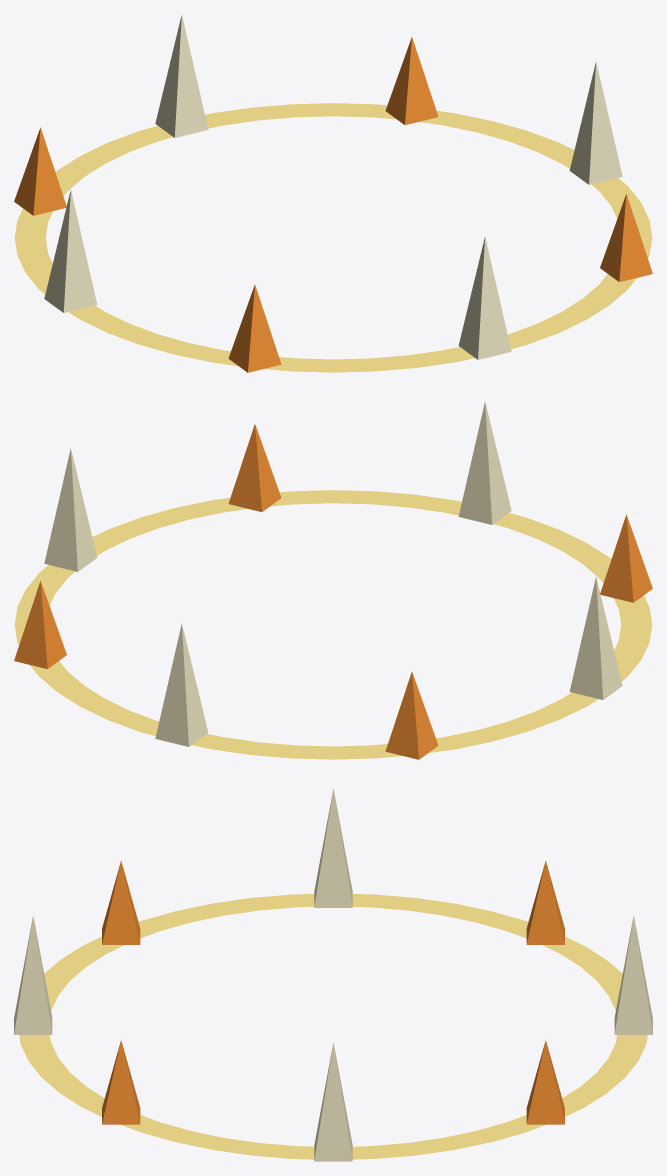
File: crusade_zeal.glb
3 views of the same model, one above another, from view 1: azimuth 30°, elevation 25°; view 2: azimuth 150°, elevation 25°; view 3: azimuth 270°, elevation 25° (orthographic).
Parts seen in each view (by area): view 1: crusade_zeal; view 2: crusade_zeal; view 3: crusade_zeal.
Part boxes in pixels (x1=…): crusade_zeal: x1=14, y1=14, x2=652, y2=372; crusade_zeal: x1=14, y1=401, x2=652, y2=759; crusade_zeal: x1=14, y1=788, x2=652, y2=1161.
Size of the model in its own units: 1.66 by 0.32 by 1.66.
Materials: 1 (1 with a texture image).
